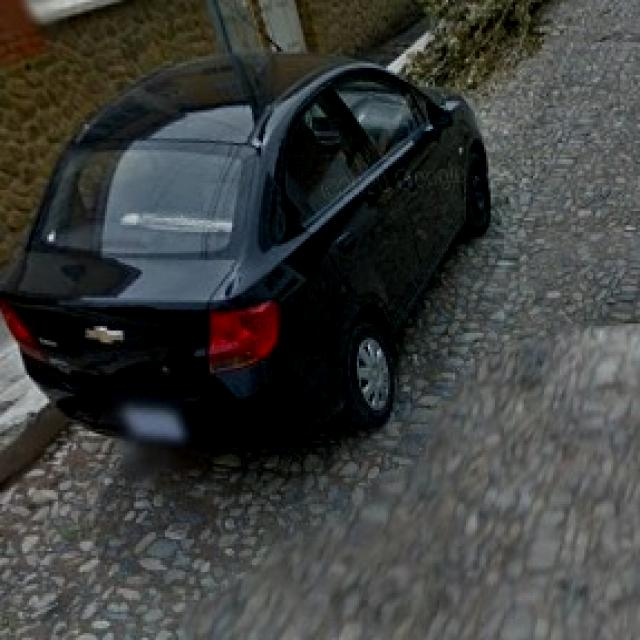car: (11, 61, 495, 460)
